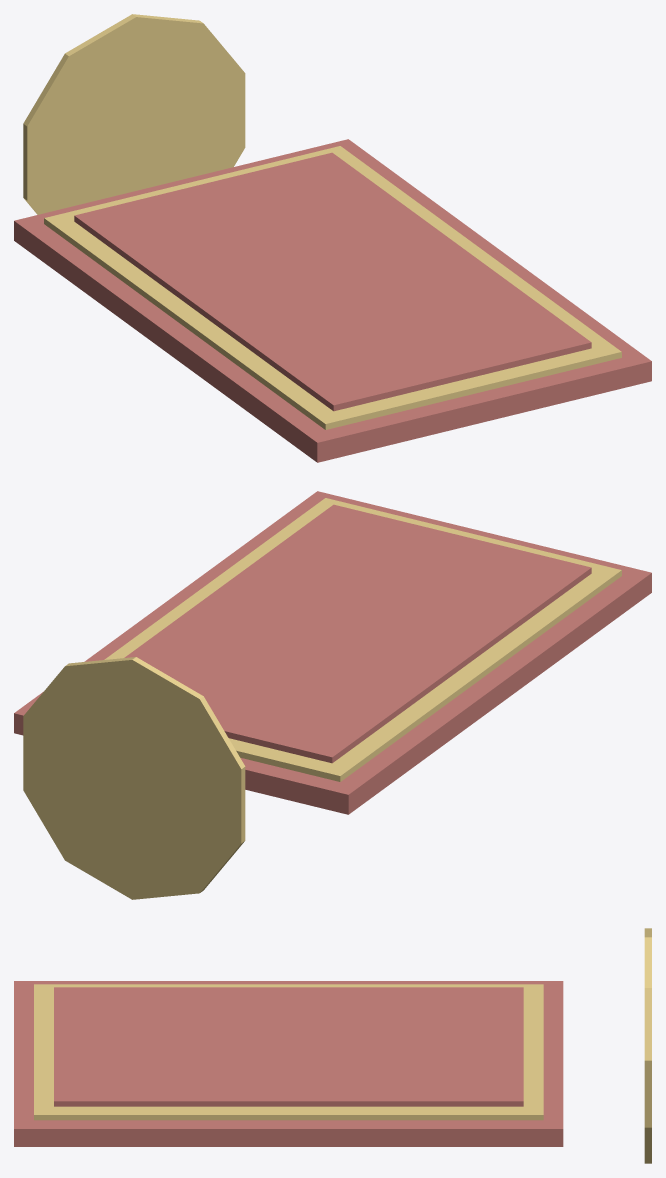
File: seccade.glb
3 views of the same model, one above another, from view 1: azimuth 30°, elevation 25°; view 2: azimuth 150°, elevation 25°; view 3: azimuth 270°, elevation 25° (orthographic). The views are drawn at different scales.
Parts seen in each view (by area): view 1: seccade; view 2: seccade; view 3: seccade.
Part boxes in pixels (x1,y1,x2,y2): seccade: (14,14,651,462); seccade: (14,491,651,899); seccade: (14,928,651,1163).
Size of the model in its own units: 0.35 by 0.24 by 0.6386.
